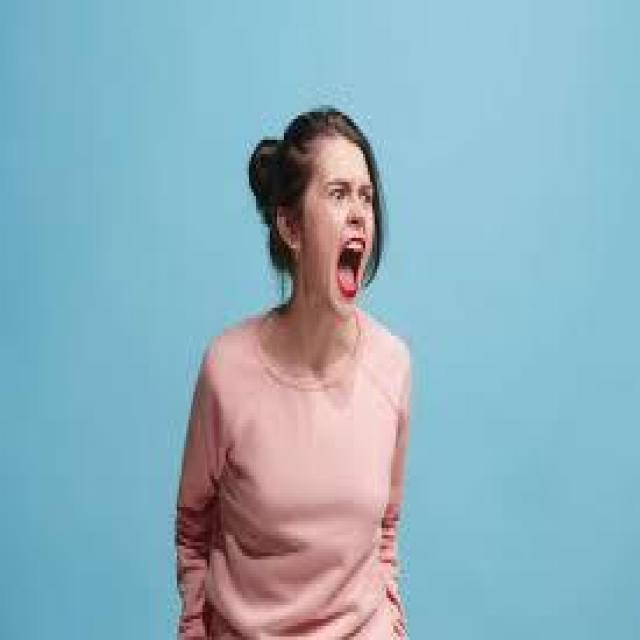person: (163, 105, 416, 636)
